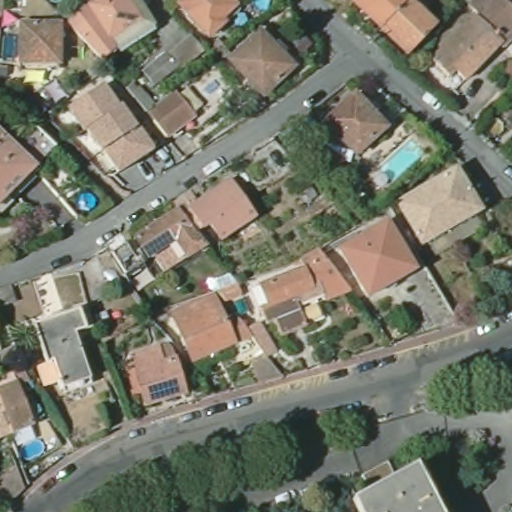pool: (377, 136, 428, 184), (18, 439, 47, 462), (75, 190, 101, 215), (230, 296, 253, 318), (251, 1, 274, 15), (235, 13, 250, 29)
